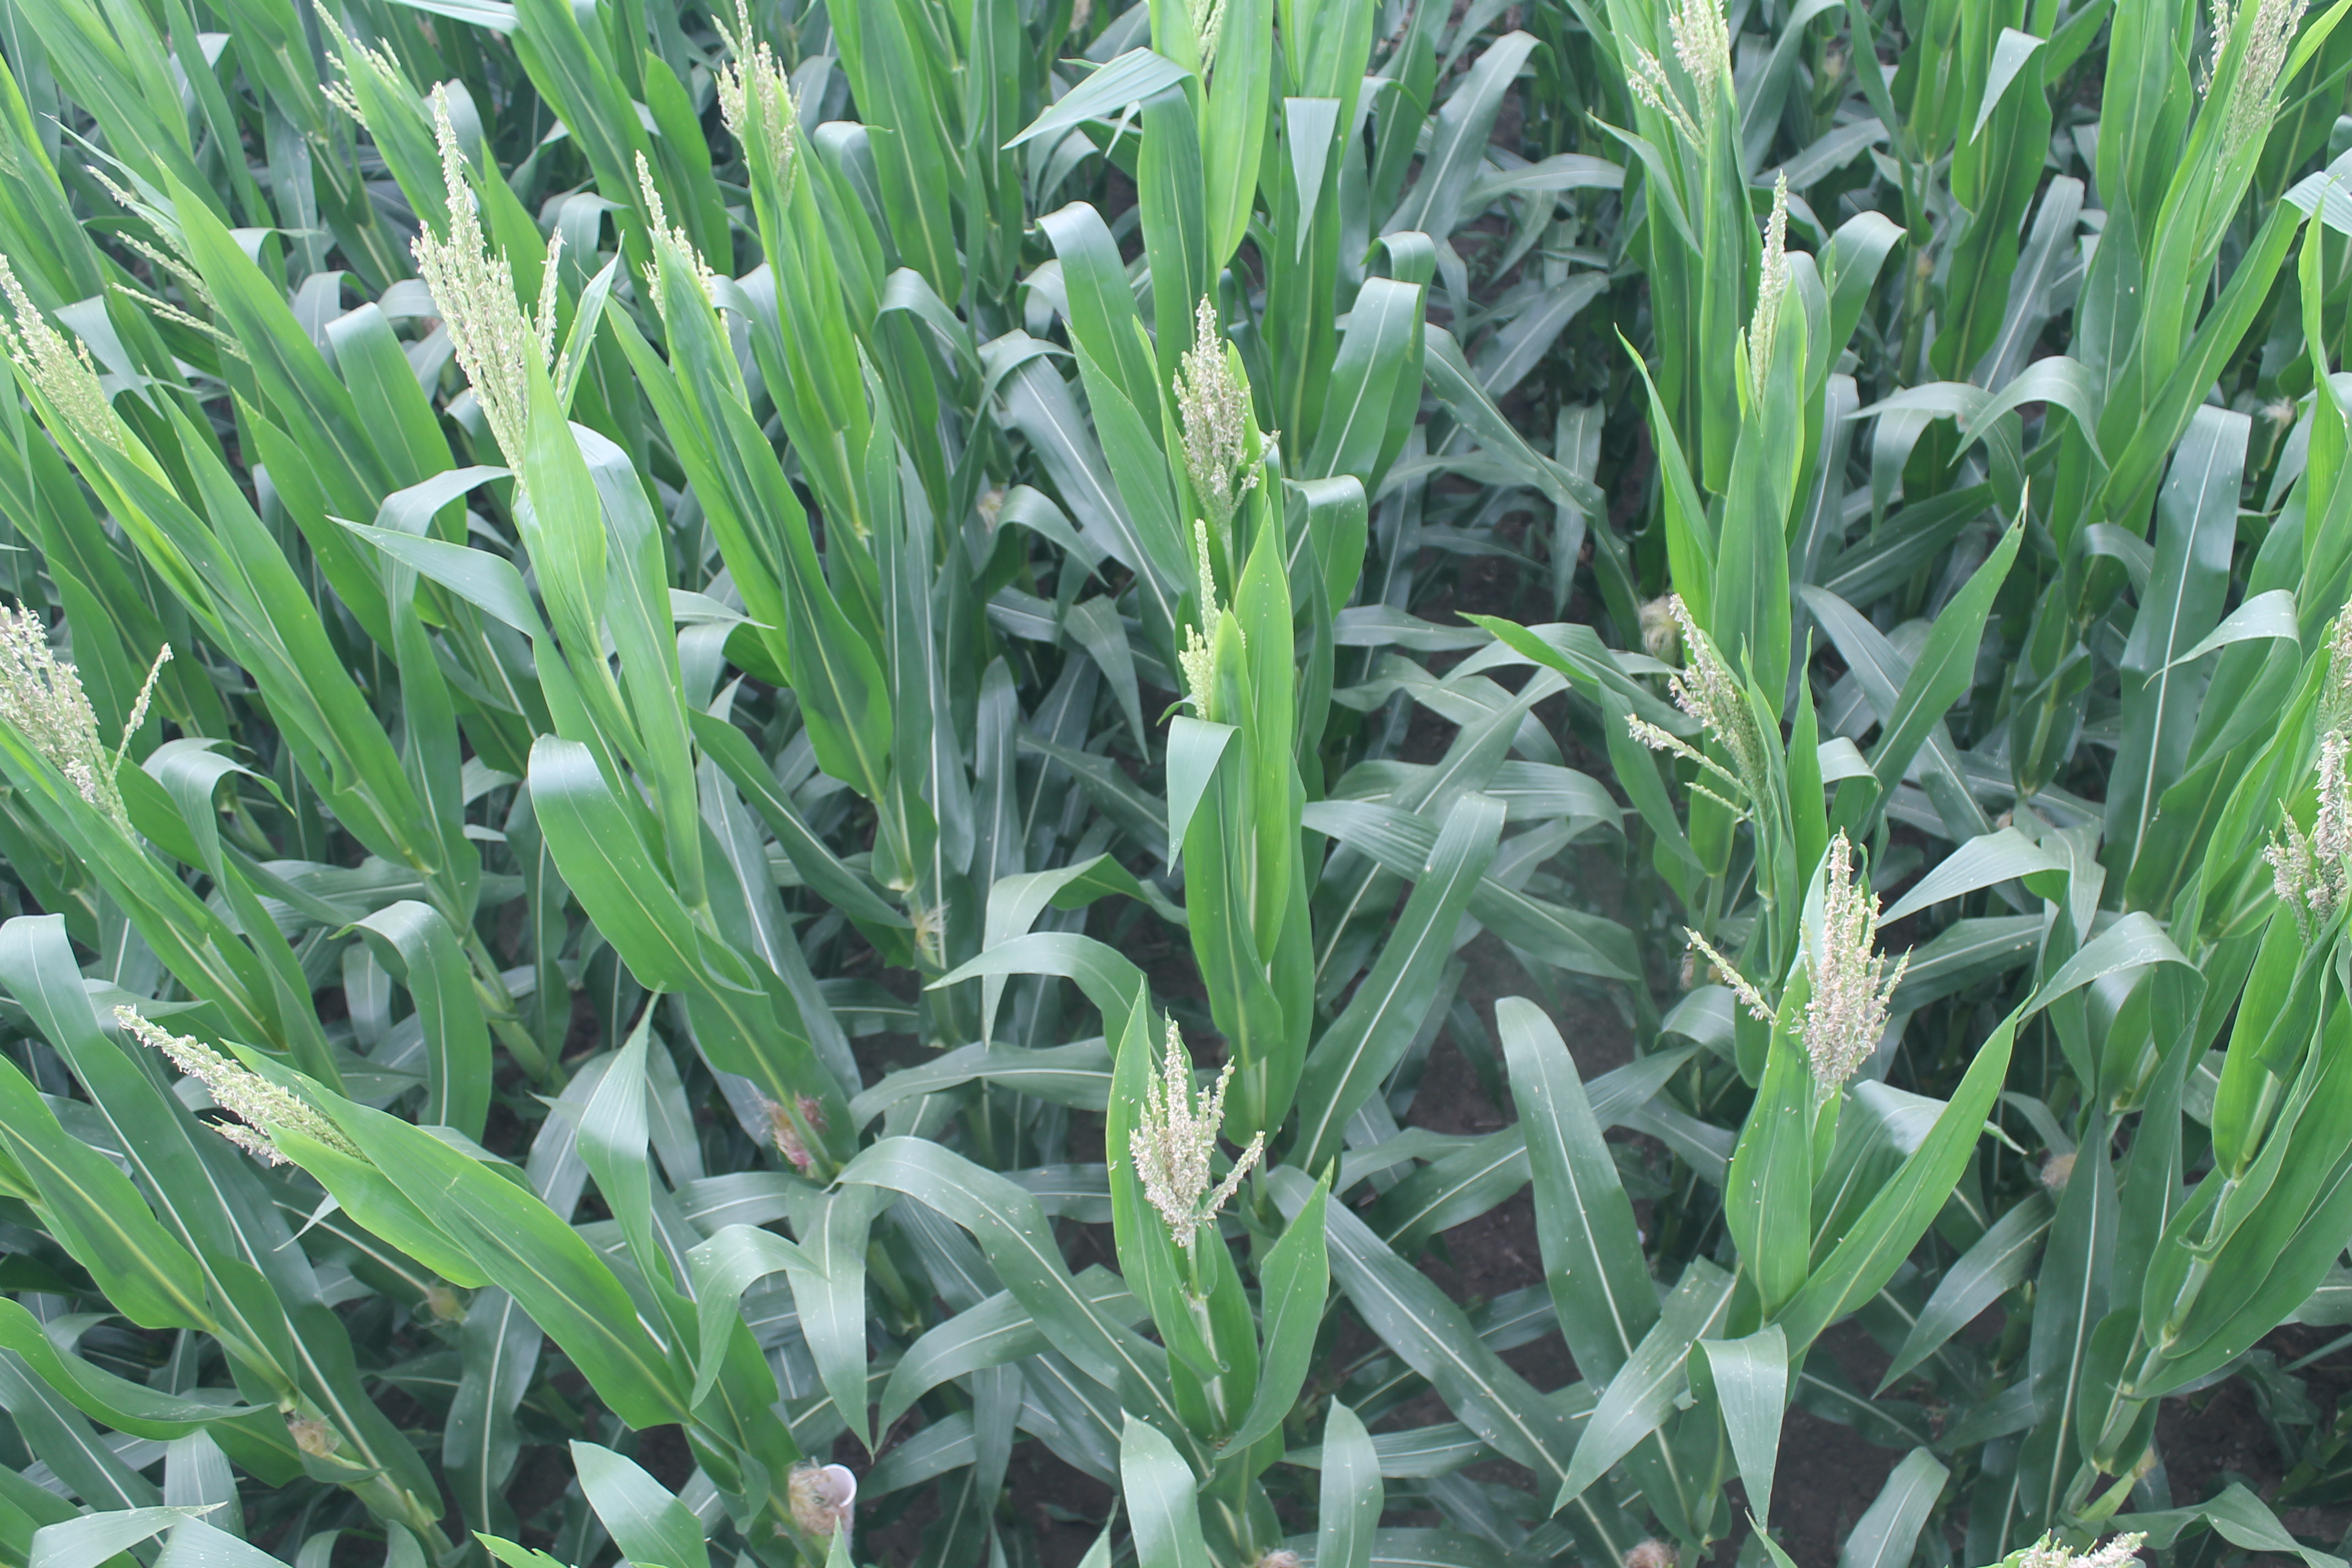Maize: (416, 79, 583, 416), (108, 992, 374, 1164), (1792, 833, 1907, 1097), (1130, 1018, 1262, 1237), (1634, 588, 1760, 812), (0, 586, 117, 803), (0, 243, 119, 448), (1169, 289, 1277, 492), (1725, 175, 1809, 402), (703, 2, 800, 182), (1620, 0, 1743, 131), (630, 145, 717, 315), (1176, 521, 1249, 719), (2208, 0, 2303, 150), (2292, 719, 2348, 943), (2007, 1524, 2158, 1568)
